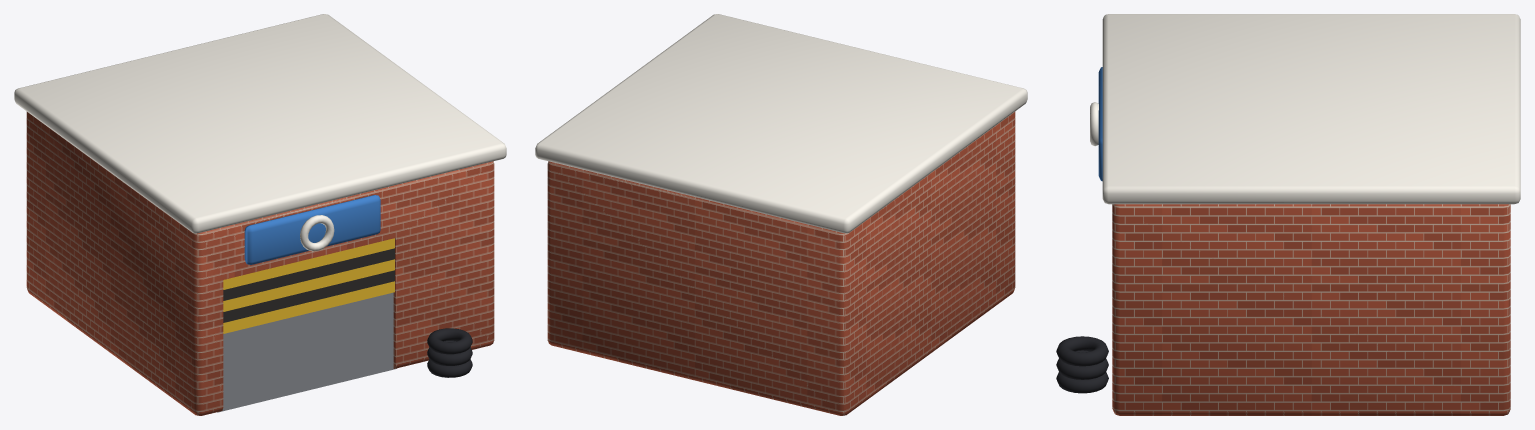
The model's file is garage.gltf.
3 views of the same model, side by side, from view 1: azimuth 30°, elevation 25°; view 2: azimuth 150°, elevation 25°; view 3: azimuth 270°, elevation 25° (orthographic). The views are drawn at different scales.
Parts seen in each view (by area): view 1: garage_mesh; view 2: garage_mesh; view 3: garage_mesh.
Part boxes in pixels (x1,y1,x2,y2): garage_mesh: (14, 14, 506, 415); garage_mesh: (535, 14, 1027, 415); garage_mesh: (1056, 14, 1520, 415).
Size of what is drawn, in the model's own units: 8.4 by 5.2 by 9.33.
10 materials, 2 textured.
